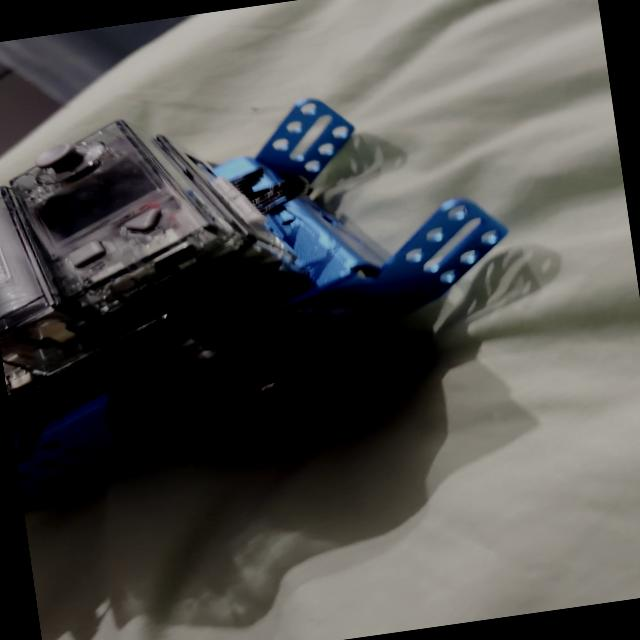mbot-detection: (0, 59, 554, 540)
